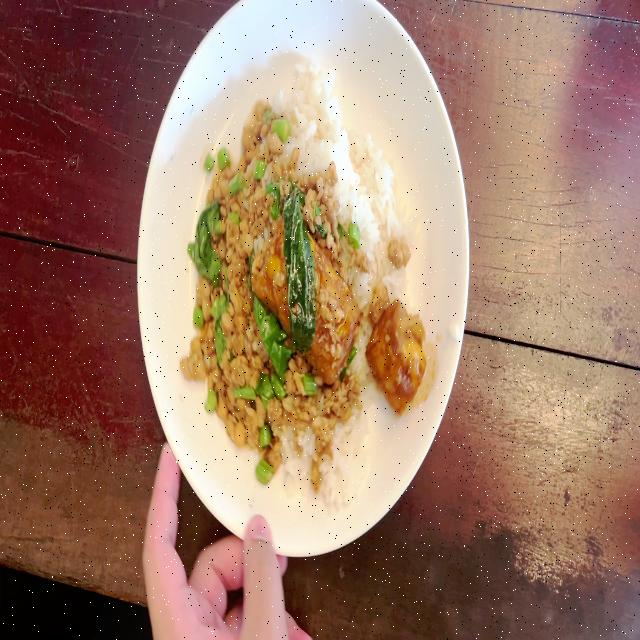fried_tofo: (254, 212, 352, 372), (374, 302, 424, 408)
minced_pork: (191, 106, 251, 304), (192, 368, 316, 422), (184, 302, 276, 369), (242, 82, 280, 232), (214, 421, 284, 491), (290, 161, 346, 246), (312, 386, 331, 488), (333, 374, 361, 418), (278, 331, 305, 372)
rice: (342, 125, 392, 253), (287, 64, 342, 178), (324, 416, 364, 506), (282, 423, 311, 494)
stir_fried_basil: (180, 66, 432, 501)
